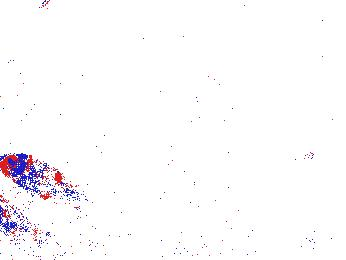X-ray fish: (2, 151, 75, 199)
